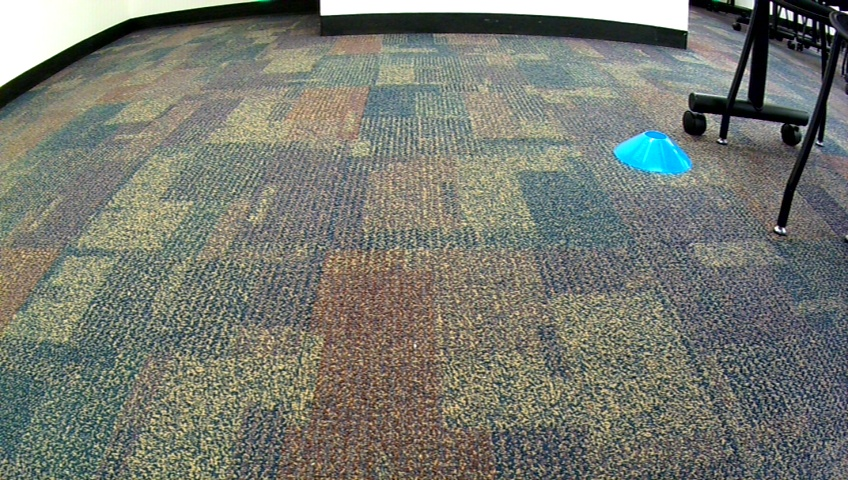cone: (612, 129, 694, 177)
